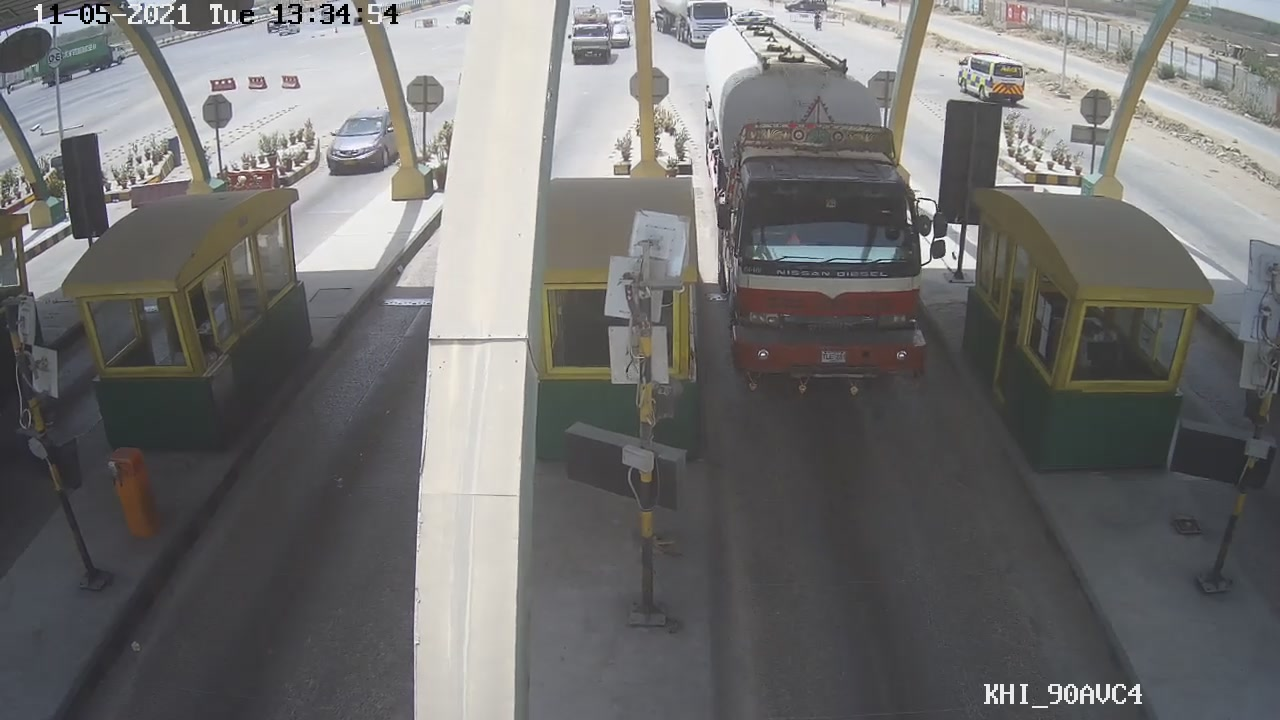F6: (700, 20, 945, 402)
